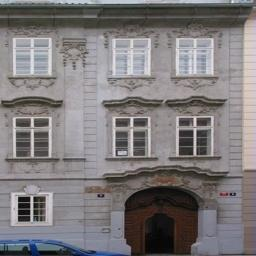building: (1, 0, 256, 254)
